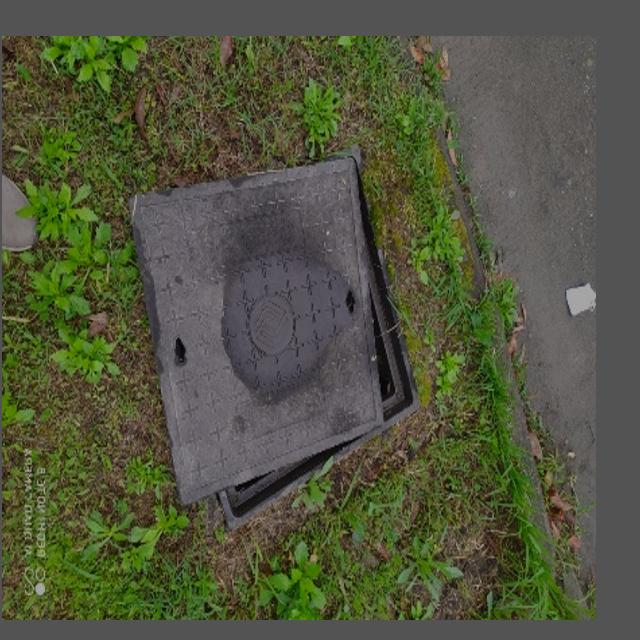uncovered: (129, 148, 423, 531)
